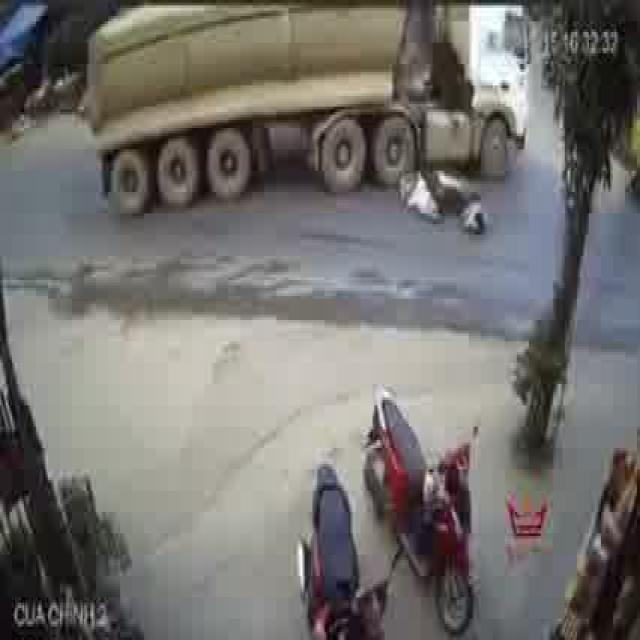multiple_accident: (359, 75, 497, 241)
normal: (276, 374, 487, 640)
